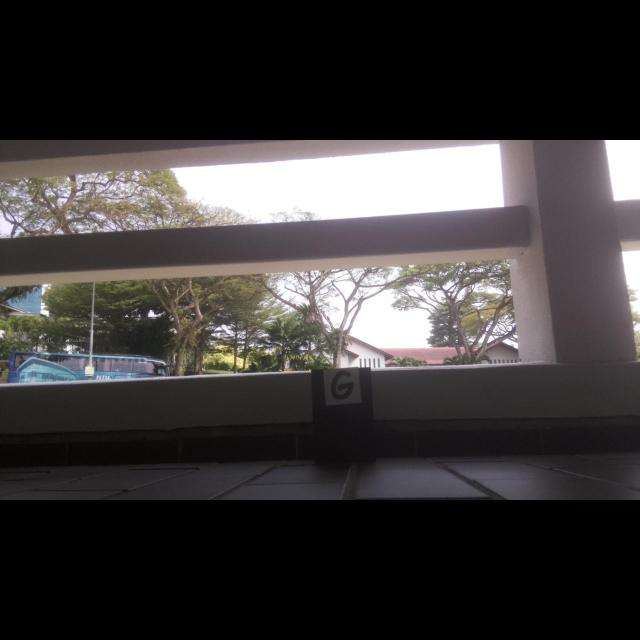G: (331, 371, 354, 400)
